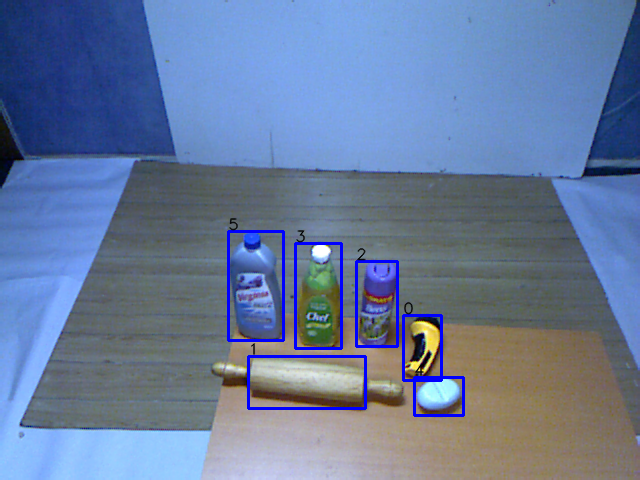aceite: (292, 235, 346, 351)
aerosol: (353, 260, 403, 357)
cera: (219, 233, 290, 344)
jabon: (411, 373, 463, 416)
linterna: (398, 312, 444, 383)
uslero: (208, 349, 406, 419)
